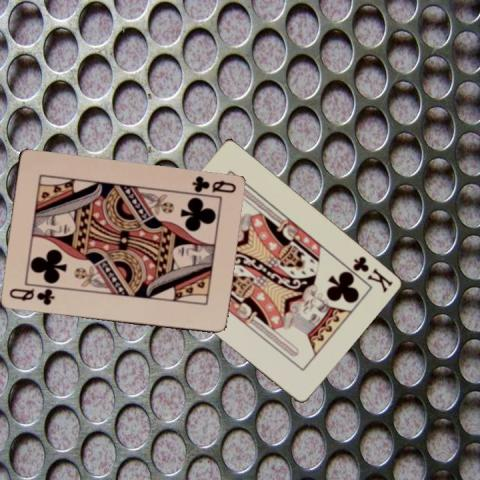Kc: (349, 253, 394, 294)
Qc: (6, 285, 55, 307), (188, 173, 236, 195)
